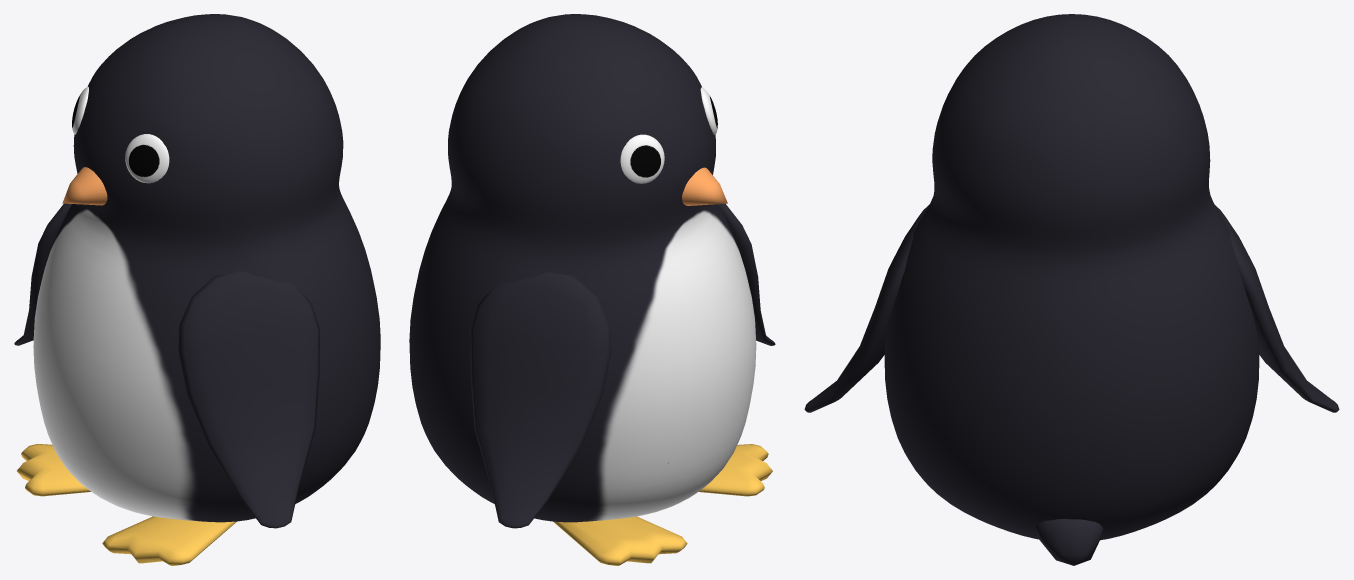
Rendered from penguin.fbx.
3 renders of one model, left to right at view 1: azimuth 30°, elevation 25°; view 2: azimuth 150°, elevation 25°; view 3: azimuth 270°, elevation 25°, orthographic. The views are drawn at different scales.
Visible parts, largest first — view 1: Roundcube, Roundcube.001, Roundcube.002, Sphere, Cone; view 2: Roundcube, Roundcube.001, Roundcube.002, Sphere, Cone; view 3: Roundcube, Roundcube.001, Icosphere.
Boxes of the visible parts, bbox=[...] form: Roundcube: bbox=[33, 14, 380, 522]; Roundcube.001: bbox=[14, 203, 319, 528]; Roundcube.002: bbox=[17, 444, 236, 565]; Sphere: bbox=[72, 86, 169, 183]; Cone: bbox=[62, 167, 107, 205]; Roundcube: bbox=[409, 14, 756, 522]; Roundcube.001: bbox=[470, 204, 775, 528]; Roundcube.002: bbox=[553, 444, 772, 565]; Sphere: bbox=[620, 87, 717, 183]; Cone: bbox=[682, 167, 727, 205]; Roundcube: bbox=[884, 14, 1259, 540]; Roundcube.001: bbox=[804, 204, 1339, 412]; Icosphere: bbox=[1035, 518, 1103, 565].
Size of the model in its own units: 227 by 340 by 335.
Materials: 6 (6 with a texture image).
